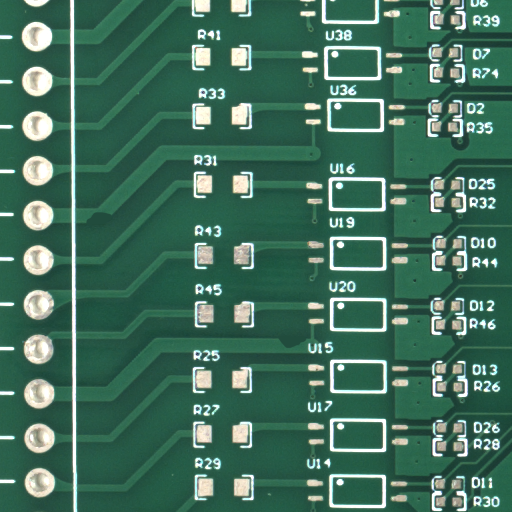Mouse_bite: (292, 340, 328, 359), (98, 218, 134, 236)
